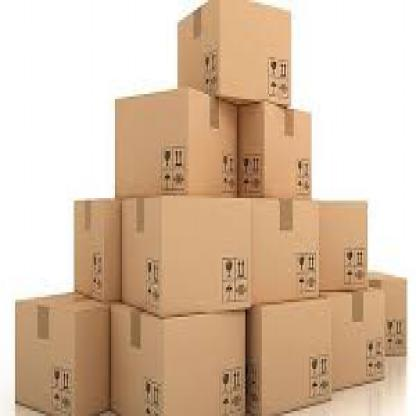paquete: (115, 178, 255, 324), (100, 70, 241, 206), (106, 290, 250, 414), (168, 2, 312, 119), (11, 284, 119, 414), (224, 181, 328, 312), (229, 77, 324, 208), (244, 297, 345, 414), (306, 188, 383, 315), (65, 184, 136, 314), (316, 280, 393, 394), (359, 257, 412, 369)
